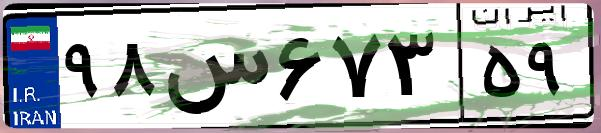3: (385, 28, 445, 110)
5: (475, 38, 525, 113)
6: (270, 28, 330, 110)
7: (330, 28, 385, 110)
8: (110, 28, 158, 98)
9: (57, 26, 110, 100), (525, 38, 570, 115)
س: (158, 20, 270, 120)
